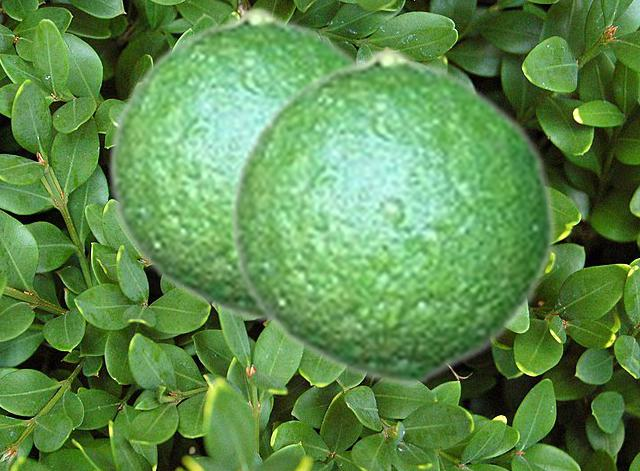dalandan: (226, 45, 556, 386), (105, 5, 361, 323)
